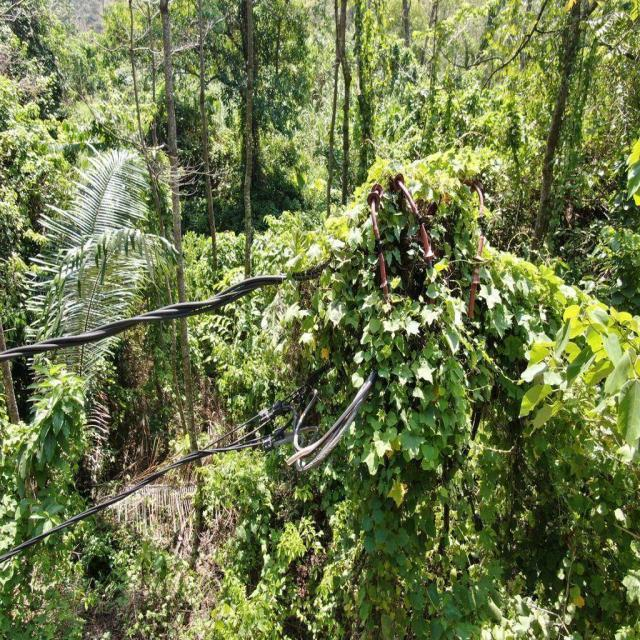critical vegetation: (254, 136, 640, 620)
